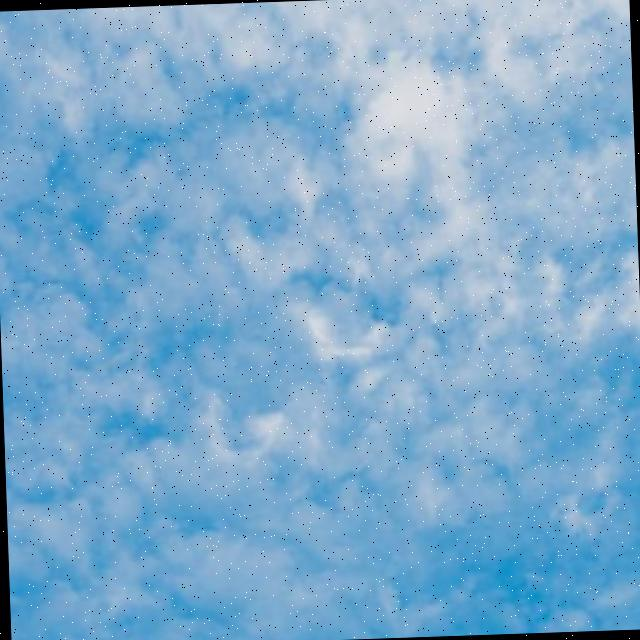Ac: (1, 1, 640, 488)
